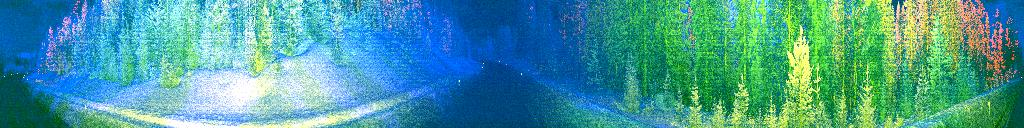pole: (987, 97, 992, 117), (83, 102, 89, 118)
